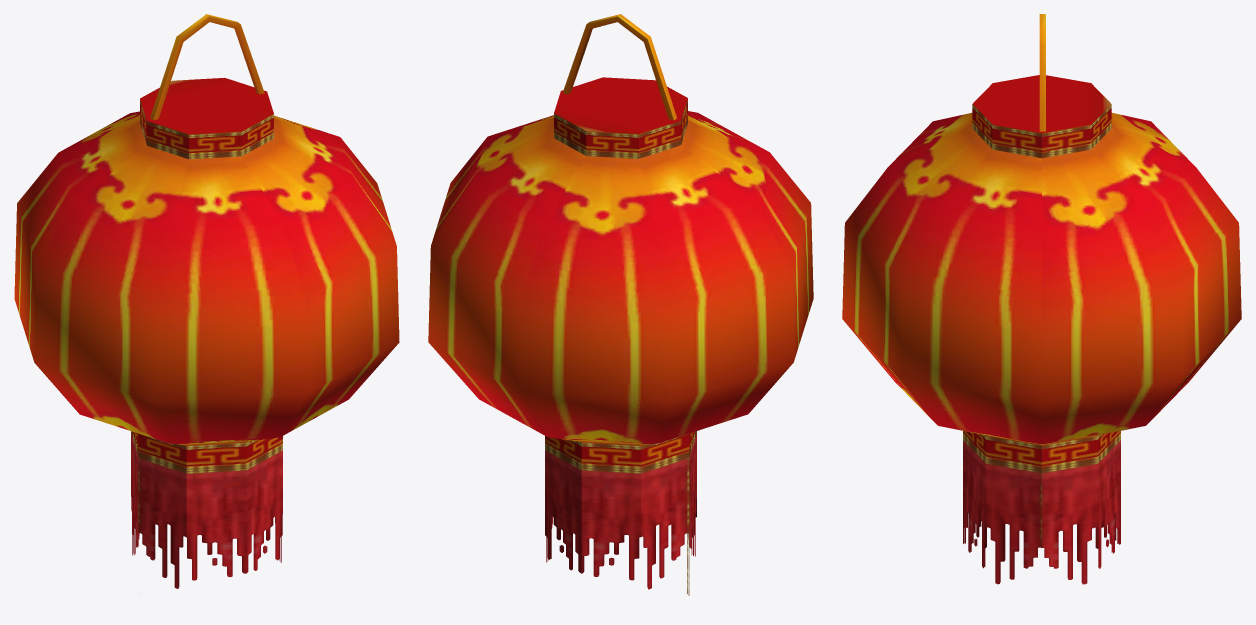
Rendered from furni_0200240.FBX.
3 renders of one model, left to right at view 1: azimuth 30°, elevation 25°; view 2: azimuth 150°, elevation 25°; view 3: azimuth 270°, elevation 25°, orthographic.
Parts seen in each view (by area): view 1: furni_0200240; view 2: furni_0200240; view 3: furni_0200240.
Boxes of the visible parts, x1,y1,x2,y2 form: furni_0200240: [14, 14, 399, 588]; furni_0200240: [428, 14, 813, 595]; furni_0200240: [842, 14, 1241, 584].
Size of the model in its own units: 66.16 by 103 by 66.16.
